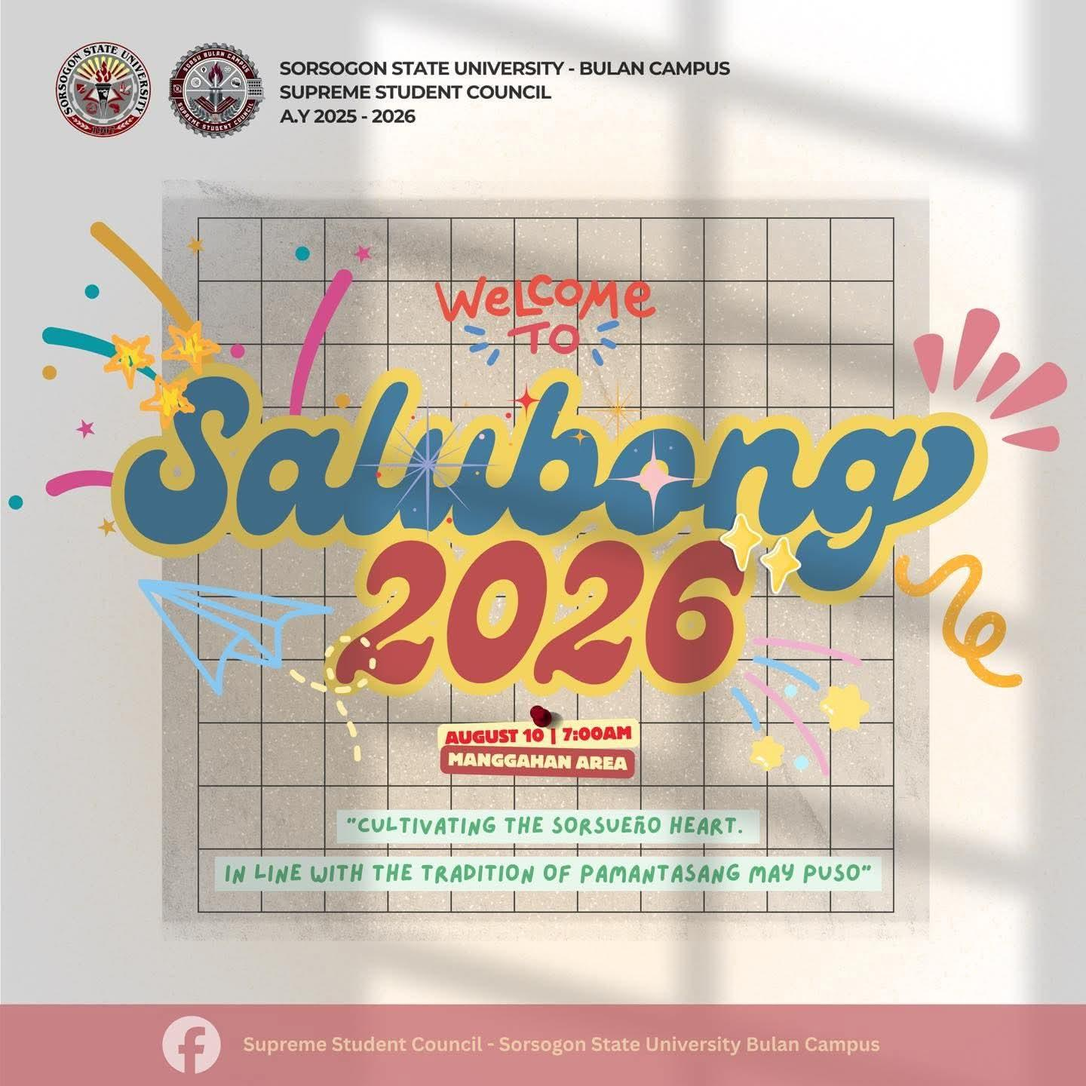embellishment: (157, 1011, 225, 1081)
logo: (47, 38, 157, 146), (163, 36, 270, 142)
text: (111, 361, 987, 699), (274, 54, 737, 129), (427, 267, 663, 359), (239, 1032, 881, 1060), (222, 859, 878, 885), (343, 814, 744, 837), (444, 723, 635, 748), (444, 750, 629, 774)
underlay: (160, 187, 931, 943), (0, 1003, 1086, 1086), (216, 853, 883, 892), (435, 703, 643, 779), (338, 810, 763, 846)
